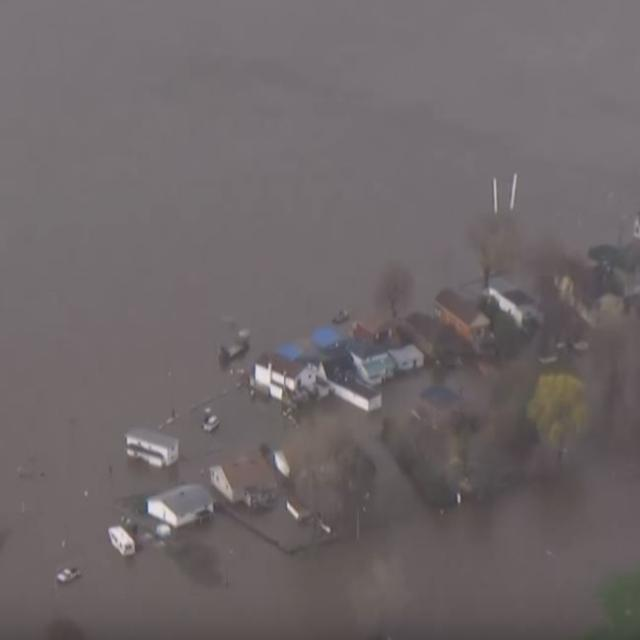flooded_areas: (23, 98, 633, 619)
